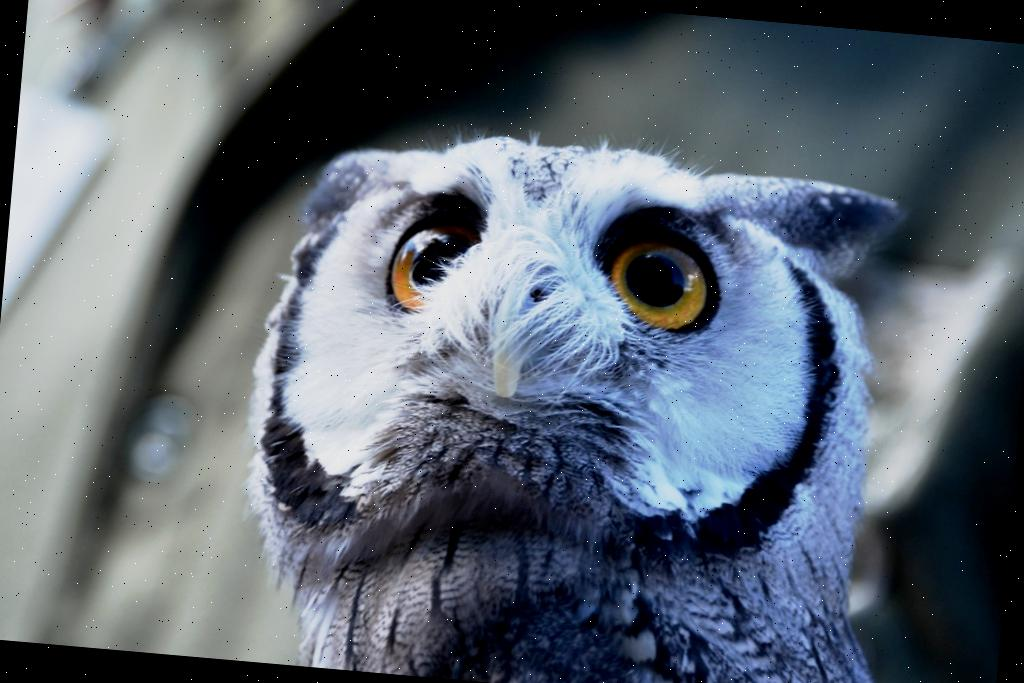Owl: (225, 97, 938, 683)
